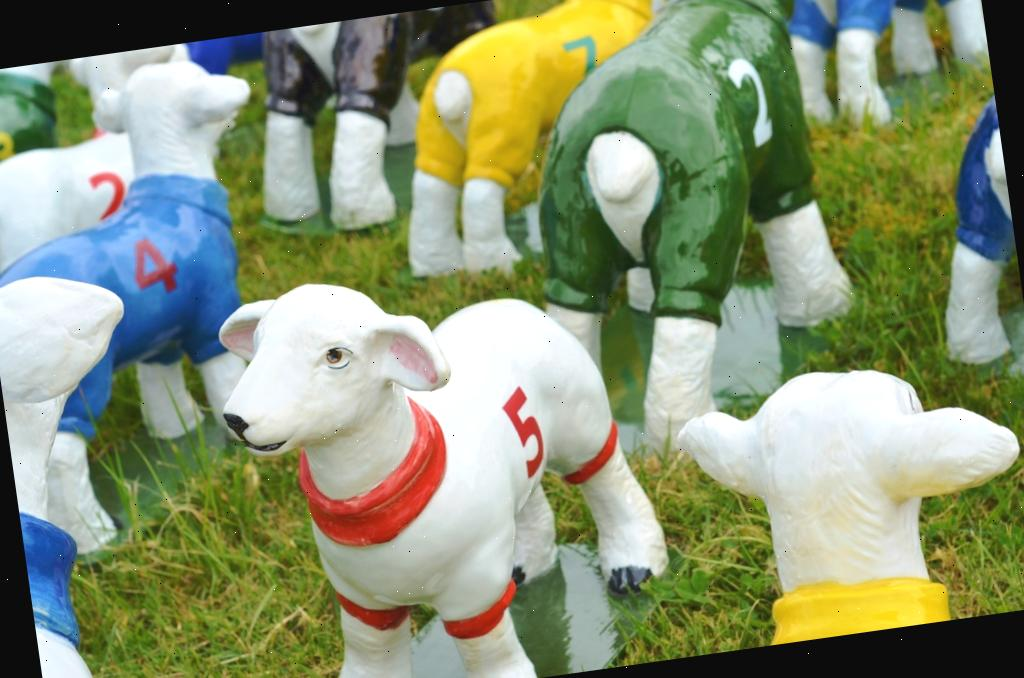Sheep: (197, 218, 679, 678), (499, 0, 933, 428), (0, 63, 320, 559), (656, 324, 1022, 656), (374, 0, 718, 283), (0, 257, 190, 678)
